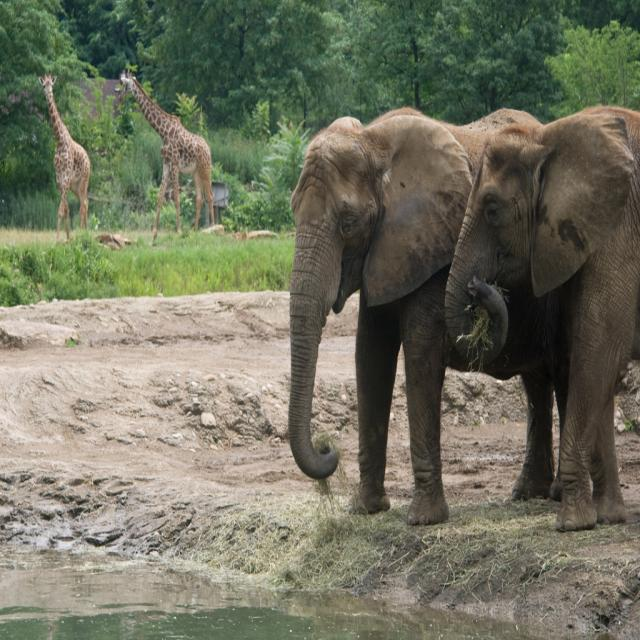elephant: (285, 108, 539, 526), (446, 109, 640, 540)
